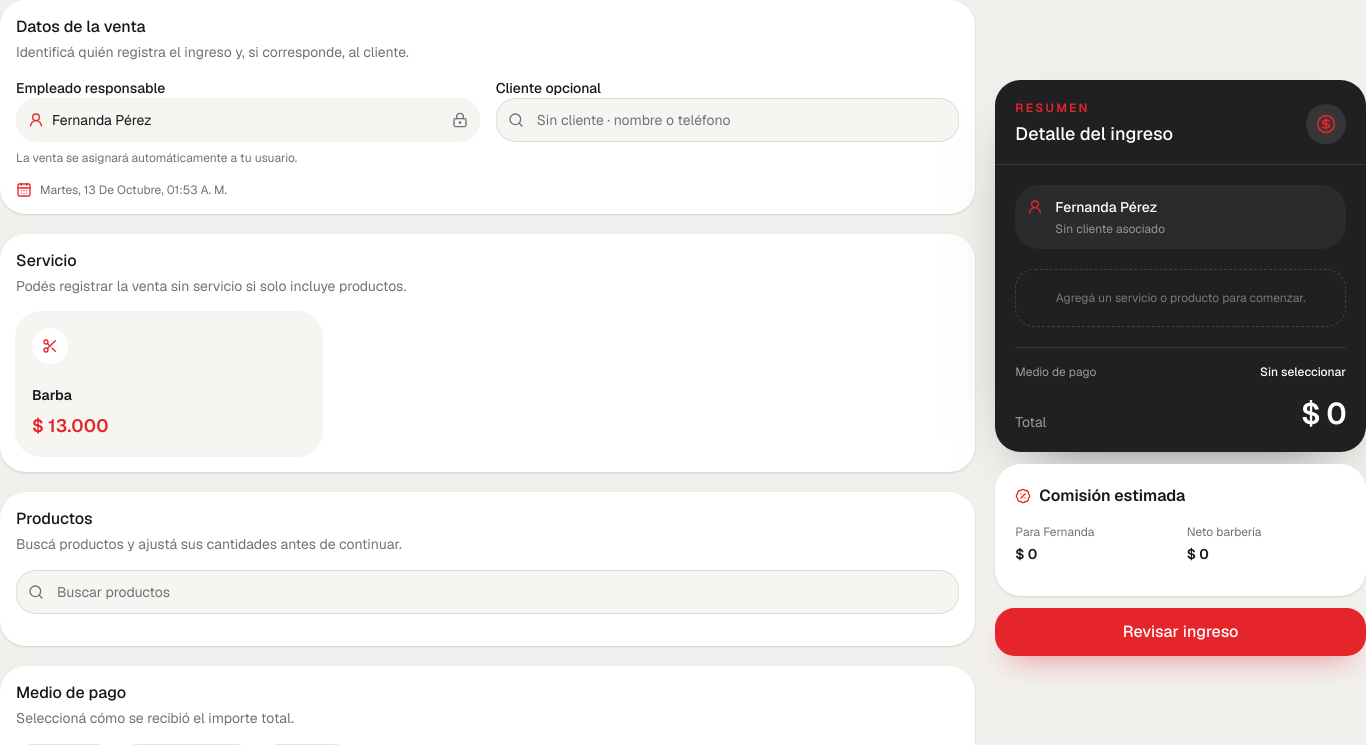
Test case: IncomeForm (manager) › preserves the draft after insufficient stock
This screenshot has width=1366, height=745.
Click the button "Barba $ 13.000": {"x": 50, "y": 346} [16,312,322,456]
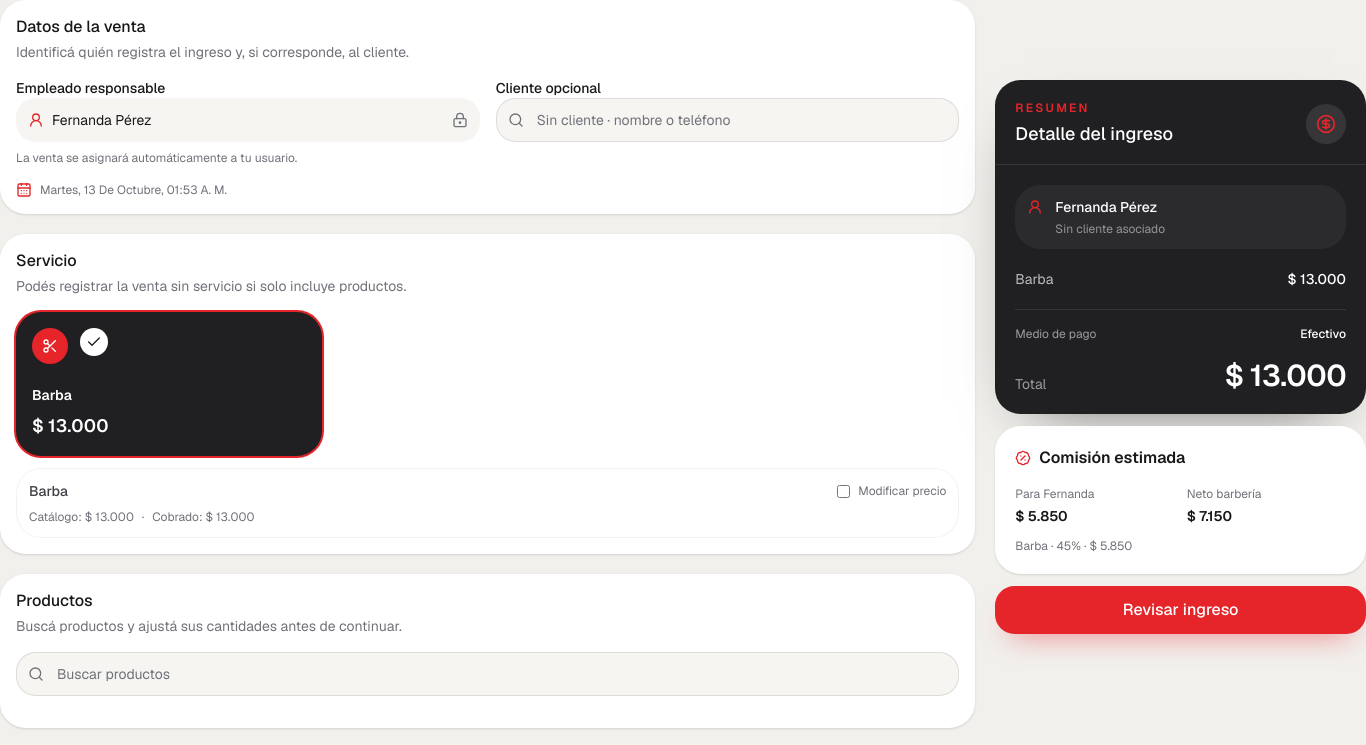
Click the button "Revisar ingreso": {"x": 1181, "y": 610} [995,586,1365,634]
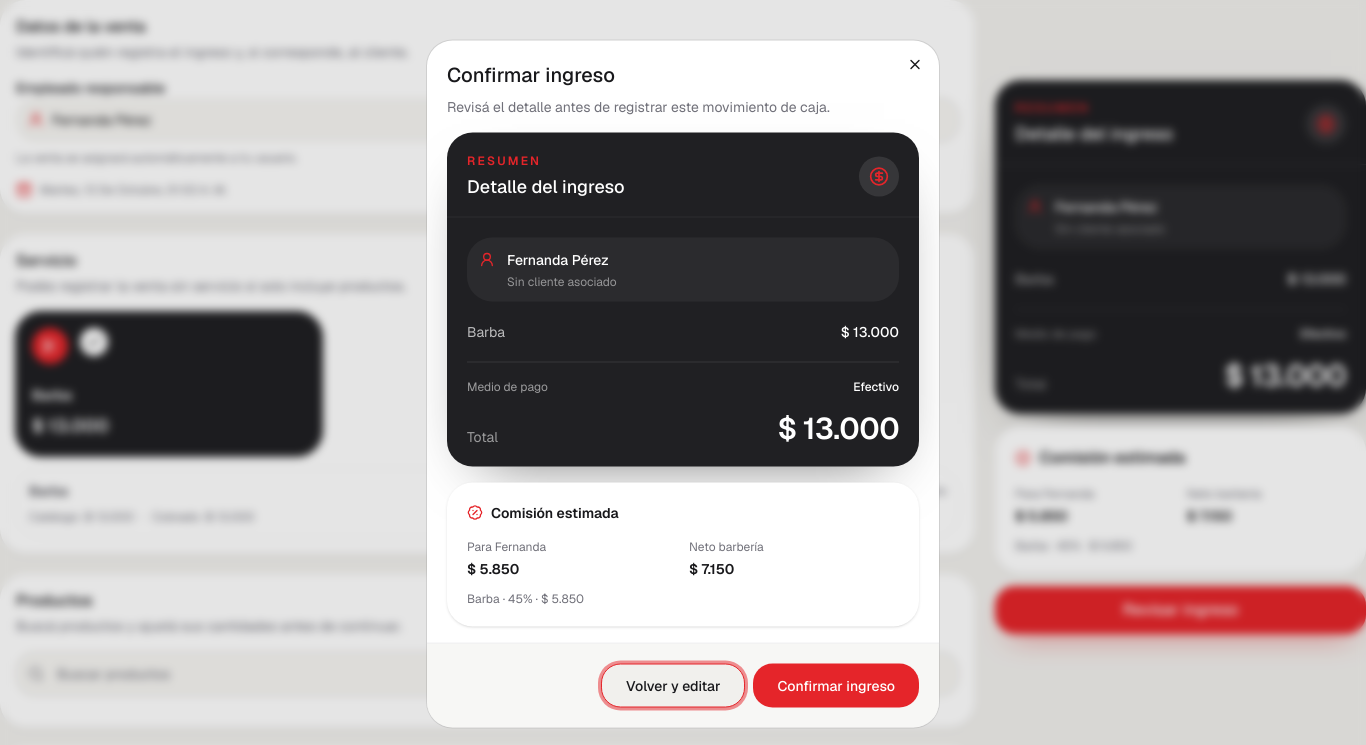
Click the button "Confirmar ingreso": {"x": 836, "y": 686} [754,664,919,708]
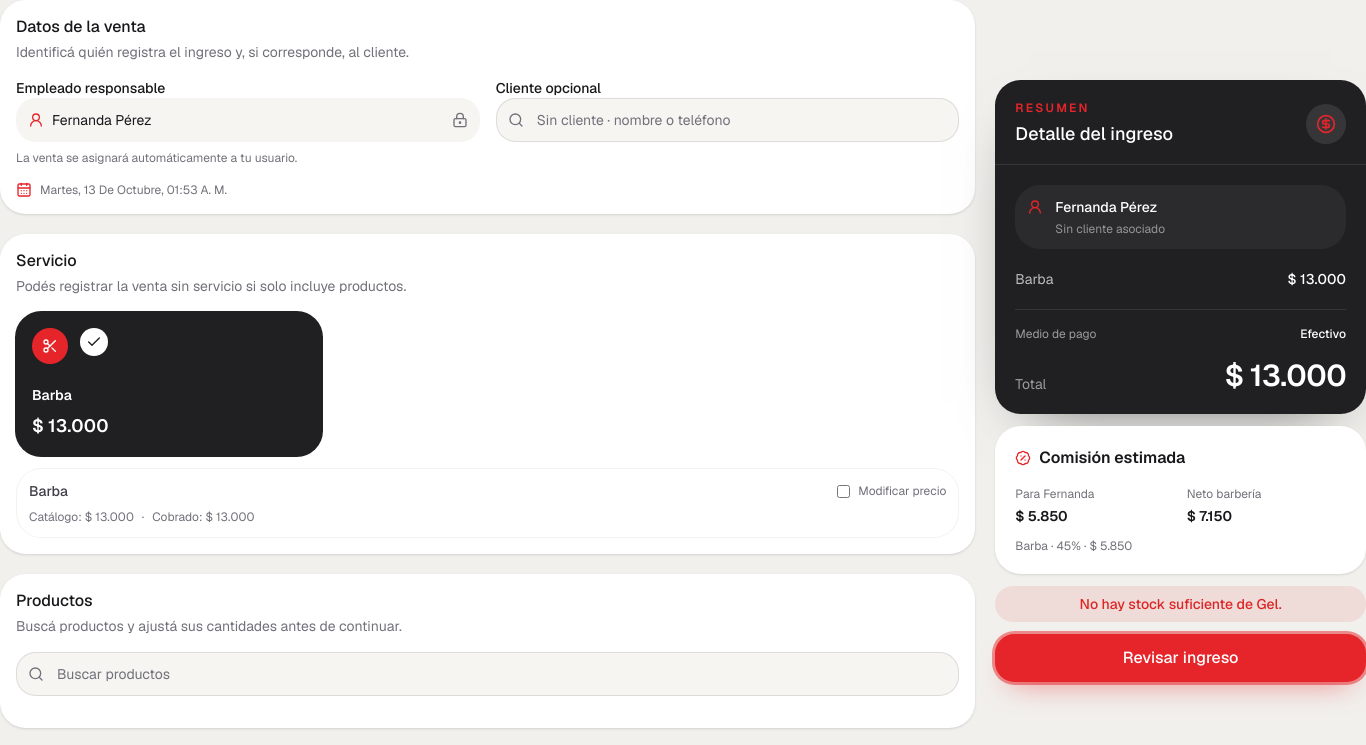
expect the message reads "No hay stock suficiente de Gel.": met, box [1080,595,1282,613]
